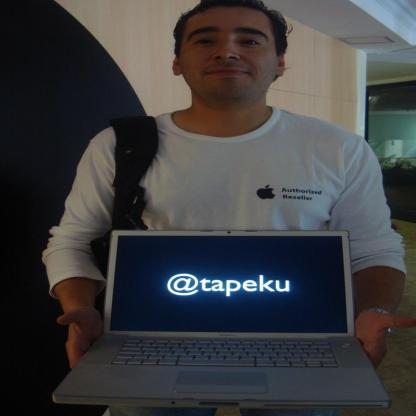board: (47, 218, 396, 410)
